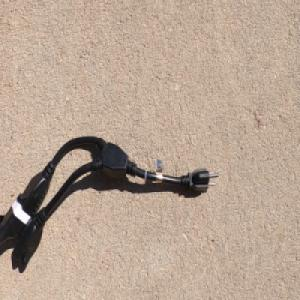Wire: (2, 133, 220, 269)
